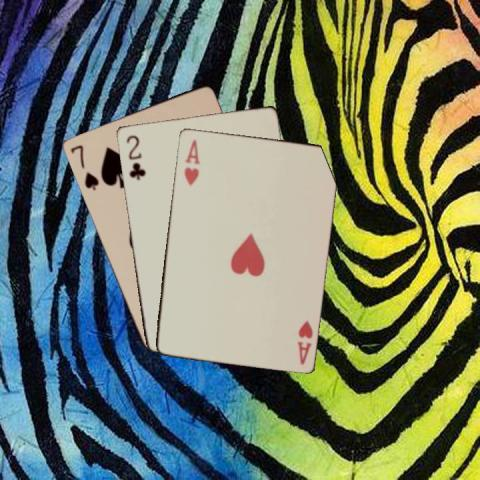2c: (122, 132, 146, 181)
7s: (67, 141, 100, 192)
Ah: (180, 136, 200, 187), (294, 317, 314, 366)
